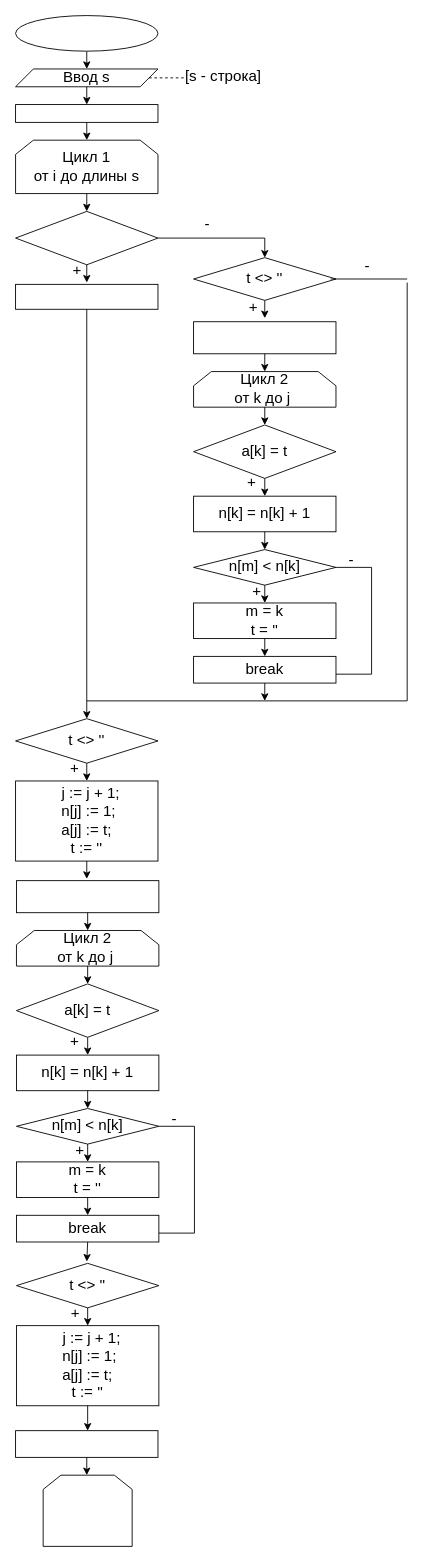
Some shapes in this 424 by 1562 pixel diagram are drawn without their labels. The centre of each missing label's shape, as x and y in pixels:
"i = 1" goes at pixel 86 1443.
"i = 1; t = ''" goes at pixel 86 113.
"k = 0; j=0" goes at pixel 264 337.
"k = 1;" goes at pixel 87 896.
"s[i] <> ' '" goes at pixel 86 237.
"t = t + s[i]" goes at pixel 86 296.
"начало" goes at pixel 86 33.
